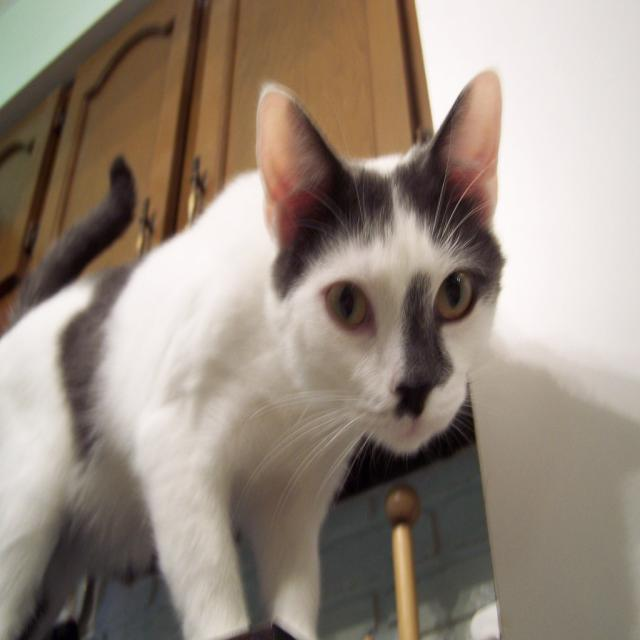cat: (1, 70, 507, 640)
